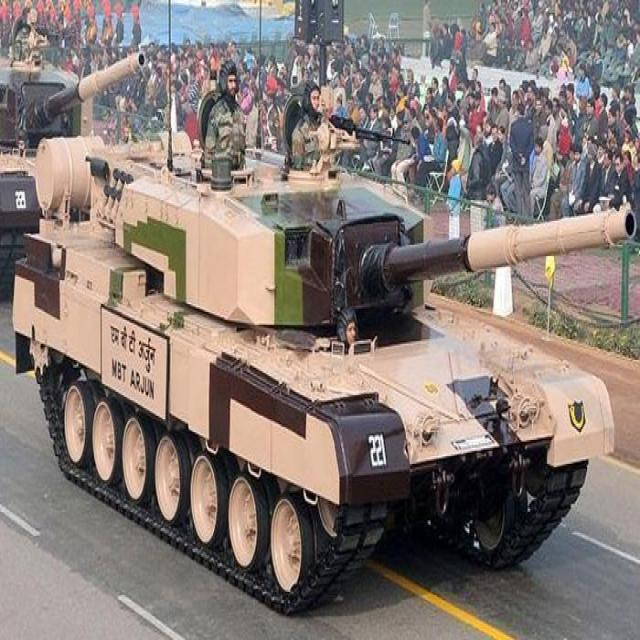MIL_MBT: (38, 125, 627, 586), (3, 38, 112, 266)
